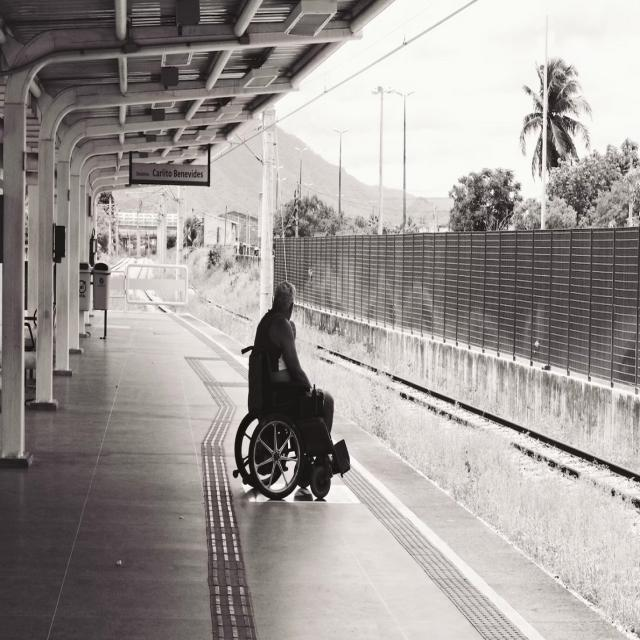wheelchairs: (233, 338, 355, 508)
